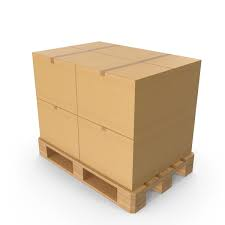box: (76, 65, 134, 141), (76, 117, 132, 195), (31, 50, 76, 118), (36, 98, 78, 163)
pallet: (37, 135, 196, 215)
